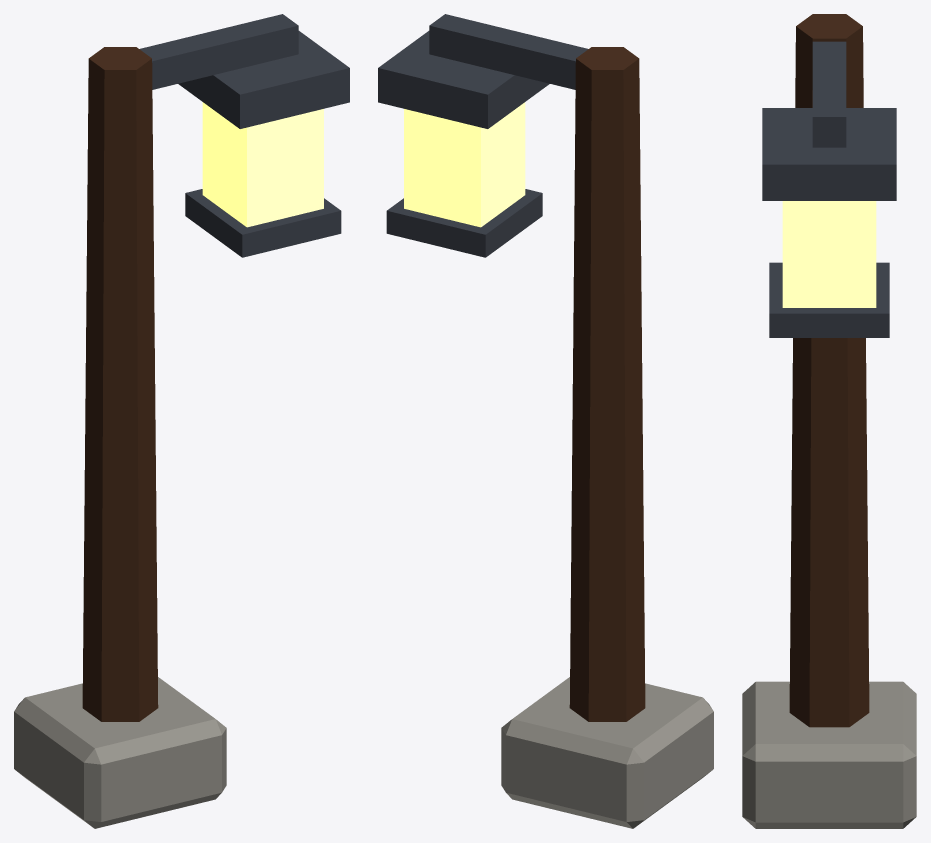
File: lantern.glb
3 renders of one model, left to right at view 1: azimuth 30°, elevation 25°; view 2: azimuth 150°, elevation 25°; view 3: azimuth 270°, elevation 25°, orthographic. The views are drawn at different scales.
Visible parts, largest first — view 1: lantern_post, lantern_base, lantern_glass, lantern_cap, lantern_arm, lantern_bot; view 2: lantern_post, lantern_base, lantern_glass, lantern_cap, lantern_arm, lantern_bot; view 3: lantern_post, lantern_base, lantern_cap, lantern_glass, lantern_bot, lantern_arm.
Boxes of the visible parts, left/top/right/bottom form: lantern_post: left=82, top=47, right=158, bottom=721; lantern_base: left=14, top=677, right=226, bottom=828; lantern_glass: left=202, top=102, right=323, bottom=227; lantern_cap: left=178, top=31, right=349, bottom=128; lantern_arm: left=139, top=14, right=298, bottom=89; lantern_bot: left=185, top=189, right=341, bottom=257; lantern_post: left=569, top=47, right=645, bottom=721; lantern_base: left=501, top=677, right=713, bottom=828; lantern_glass: left=404, top=102, right=525, bottom=227; lantern_cap: left=378, top=31, right=549, bottom=128; lantern_arm: left=429, top=14, right=588, bottom=89; lantern_bot: left=386, top=189, right=542, bottom=257; lantern_post: left=789, top=14, right=869, bottom=727; lantern_base: left=742, top=681, right=916, bottom=828; lantern_cap: left=762, top=108, right=896, bottom=200; lantern_glass: left=782, top=201, right=876, bottom=307; lantern_bot: left=769, top=262, right=889, bottom=337; lantern_arm: left=812, top=41, right=846, bottom=147.
Size of the model in its own units: 0.49 by 1.27 by 0.26.
